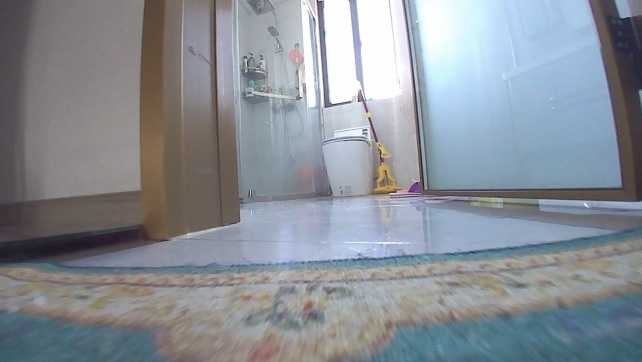blanket: (0, 223, 640, 360)
door_anno: (396, 0, 639, 205)
toilet: (317, 124, 377, 198)
